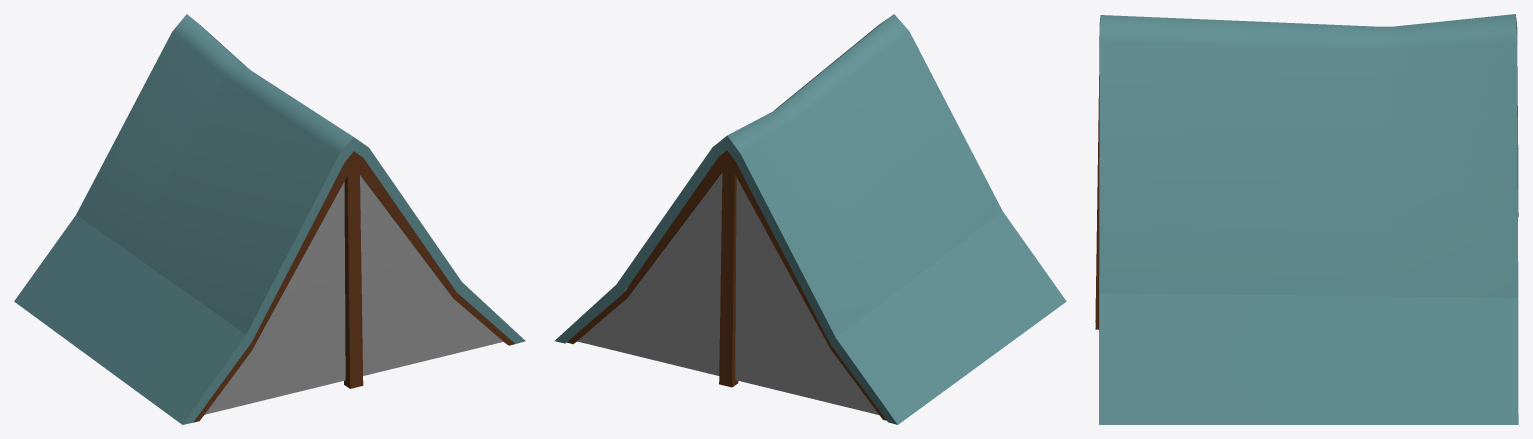
Rendered from tent_01.fbx.
The picture shows the model from 3 angles, left to right: view 1: azimuth 30°, elevation 25°; view 2: azimuth 150°, elevation 25°; view 3: azimuth 270°, elevation 25°; orthographic projection. The views are drawn at different scales.
Visible parts, largest first — view 1: tarp; view 2: tarp; view 3: tarp.
Boxes of the visible parts, box(x1,y1,x2,y2) form: tarp: box(14, 14, 525, 424); tarp: box(554, 14, 1066, 424); tarp: box(1095, 14, 1518, 424).
Size of the model in its own units: 218 by 152 by 187.
